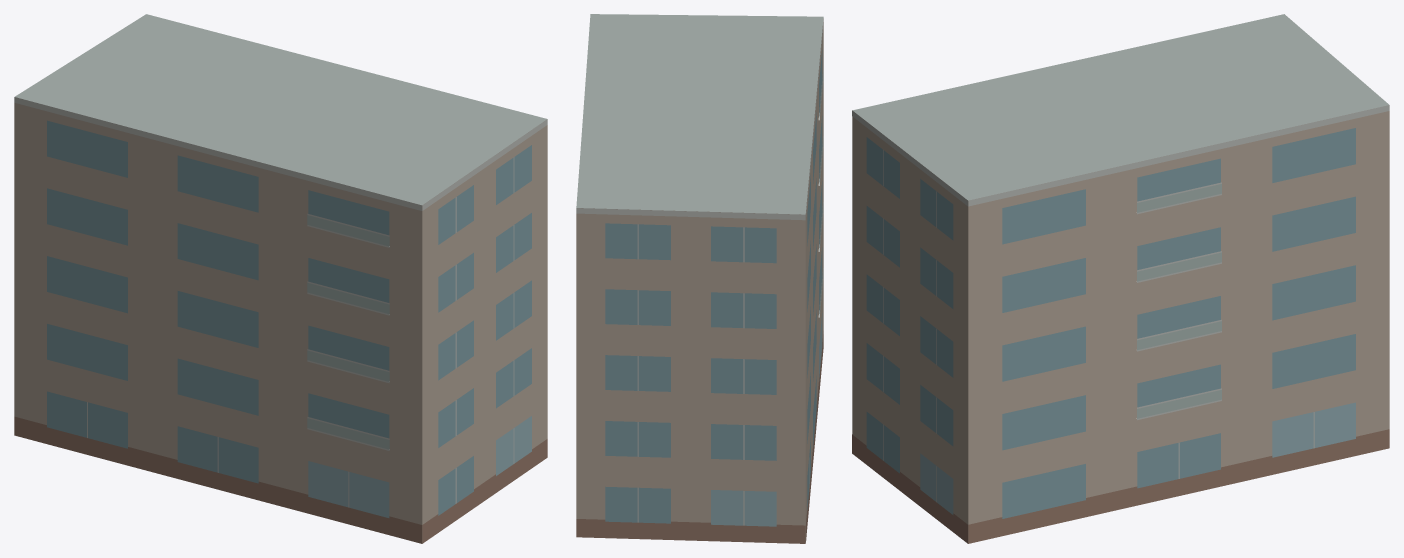
Rendered from survey-upis-32768310.glb.
3 renders of one model, left to right at view 1: azimuth 30°, elevation 25°; view 2: azimuth 150°, elevation 25°; view 3: azimuth 270°, elevation 25°, orthographic. The views are drawn at different scales.
Parts seen in each view (by area): view 1: survey-upis-32768310.tmp; view 2: survey-upis-32768310.tmp; view 3: survey-upis-32768310.tmp.
Boxes of the visible parts, x1,y1,x2,y2 form: survey-upis-32768310.tmp: (14, 14, 547, 543); survey-upis-32768310.tmp: (576, 14, 823, 543); survey-upis-32768310.tmp: (852, 14, 1389, 543).
Size of the model in its own units: 16.57 by 14.2 by 20.16.
